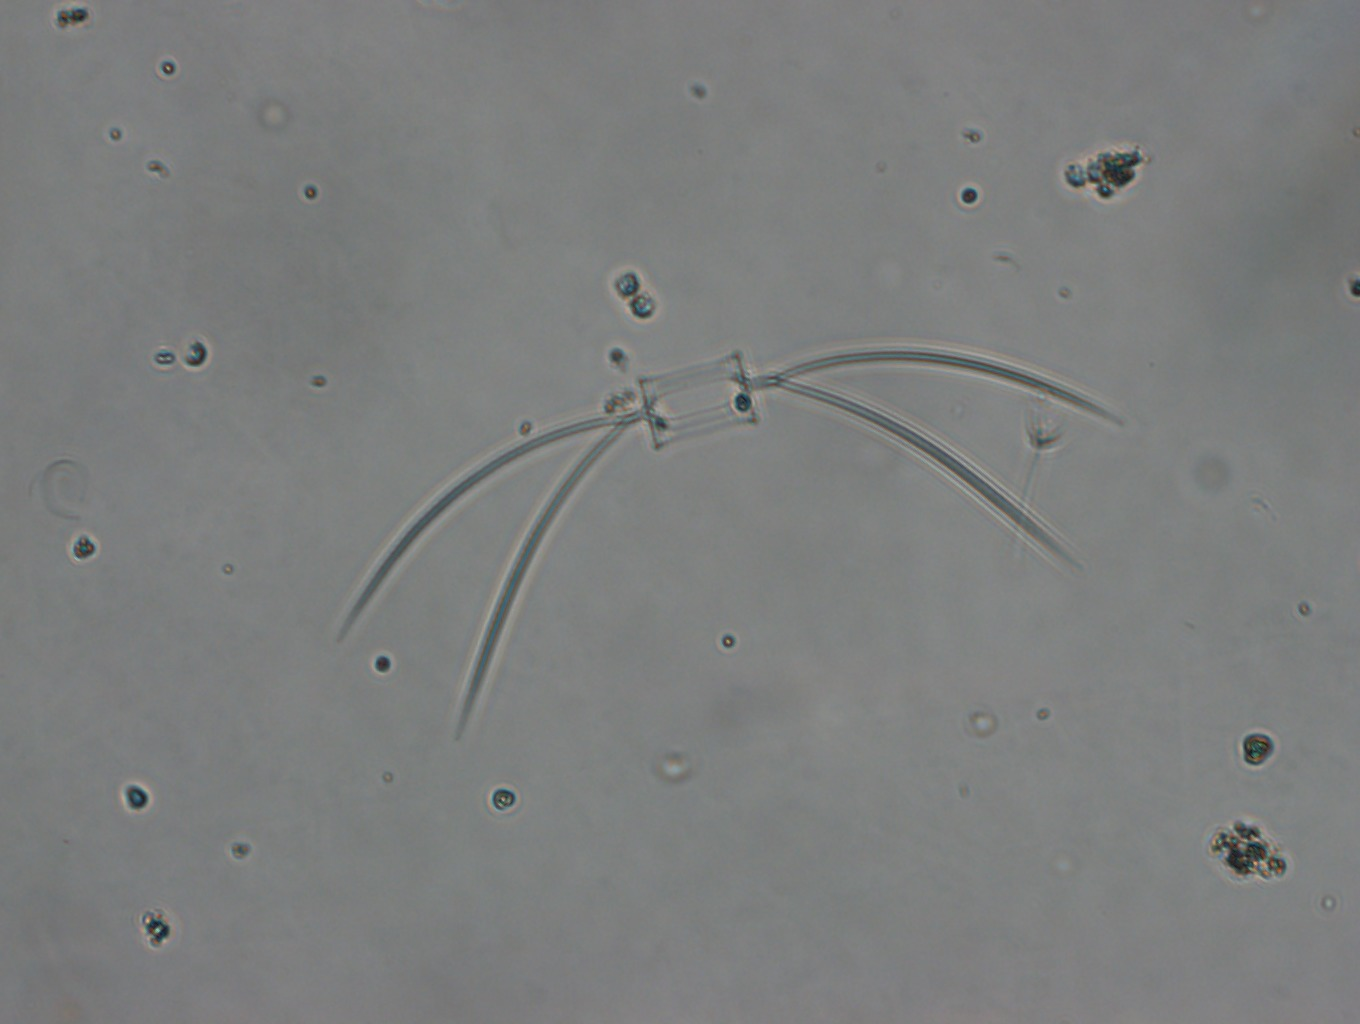chaetoceros: (337, 336, 1129, 731)
